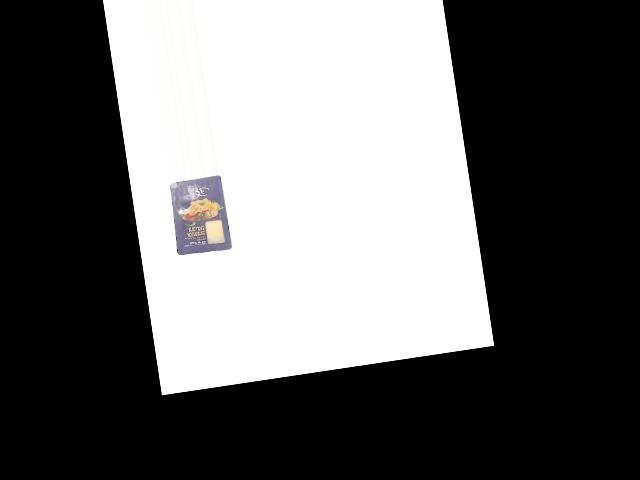cheese: (165, 174, 232, 257)
